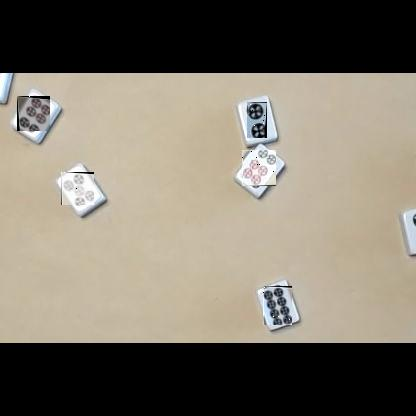2p: (247, 102, 267, 138)
5p: (61, 172, 94, 205)
6p: (242, 150, 276, 186), (17, 96, 50, 131)
8p: (263, 286, 292, 325)
